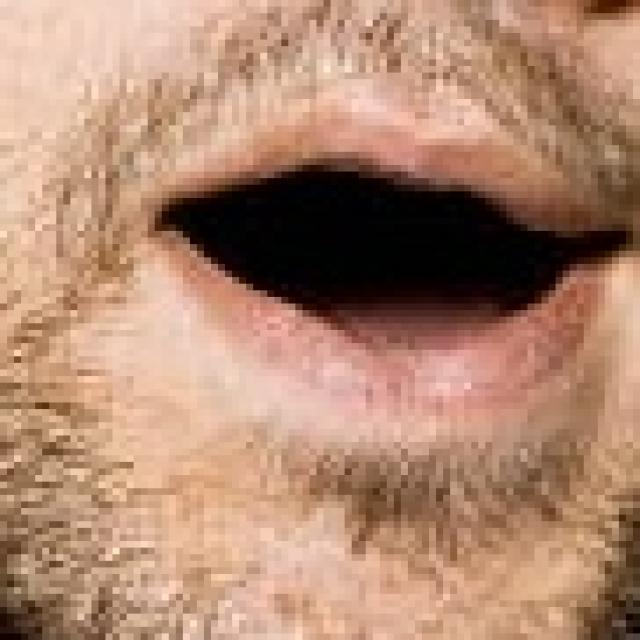open-mouth: (137, 86, 637, 420)
